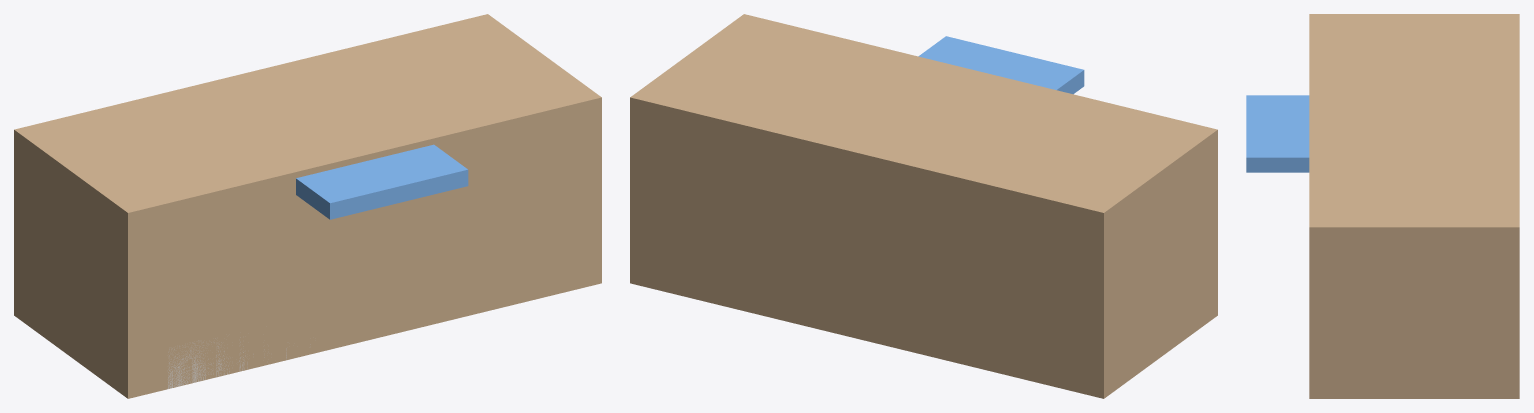
The model's file is reception_desk.glb.
The picture shows the model from 3 angles, left to right: view 1: azimuth 30°, elevation 25°; view 2: azimuth 150°, elevation 25°; view 3: azimuth 270°, elevation 25°; orthographic projection. The views are drawn at different scales.
Parts seen in each view (by area): view 1: desk_0, logo_panel_2, counter_1; view 2: desk_0, logo_panel_2; view 3: desk_0, logo_panel_2.
Boxes of the visible parts, x1,y1,x2,y2 form: desk_0: (14, 14, 601, 398); logo_panel_2: (296, 144, 468, 219); counter_1: (168, 337, 310, 388); desk_0: (630, 14, 1217, 398); logo_panel_2: (918, 36, 1084, 94); desk_0: (1309, 14, 1519, 398); logo_panel_2: (1246, 95, 1309, 172).
Bounding box in the file's own units: 2.4 × 0.9 × 1.3.
